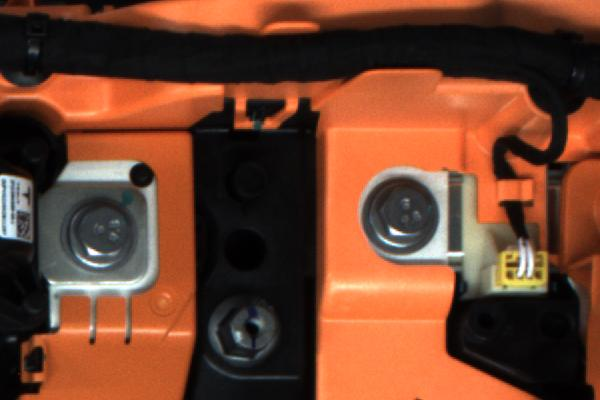nut_b: (355, 170, 453, 277), (58, 183, 153, 284)
